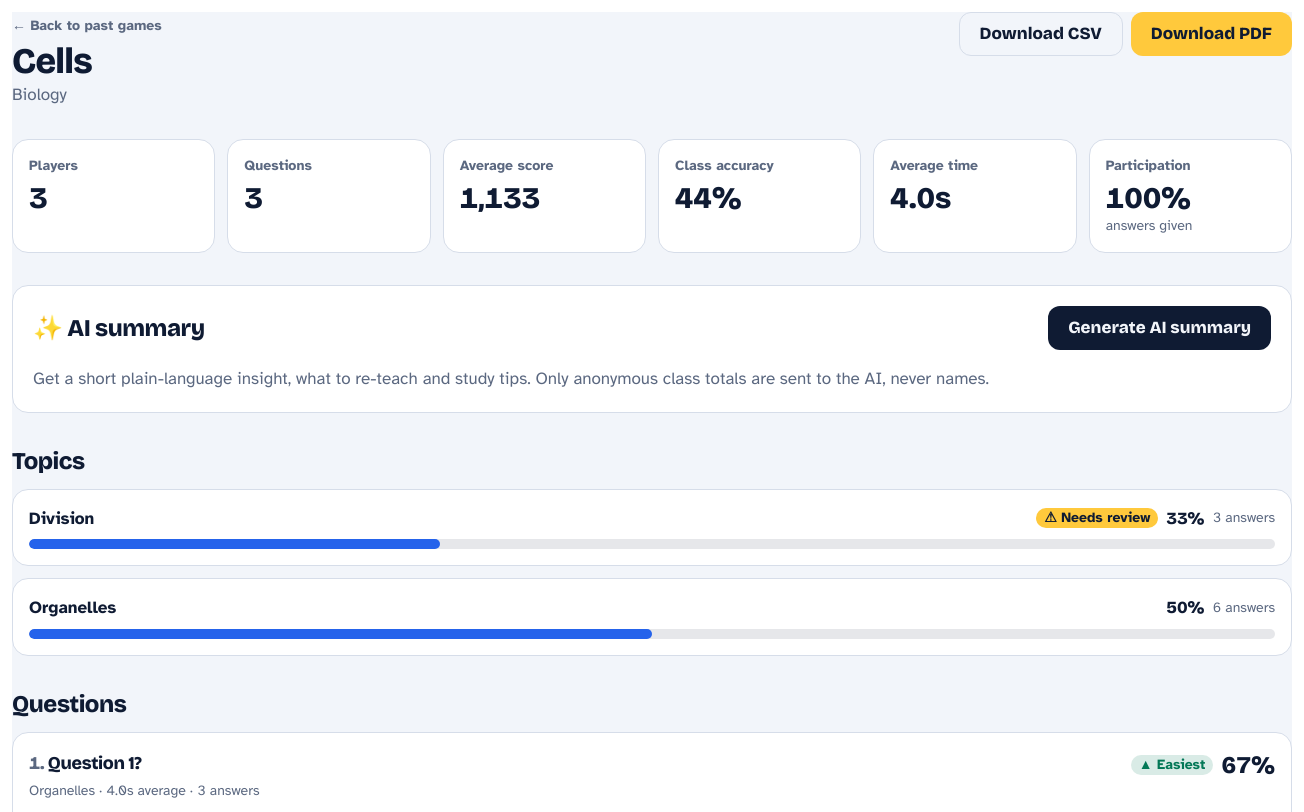
ReportView › generates an AI summary on demand and shows it
What coordinates should you click on to do the following:
click the button "Generate AI summary"
I would click on:
 (1160, 328)
Its box is [1048,306,1271,350].
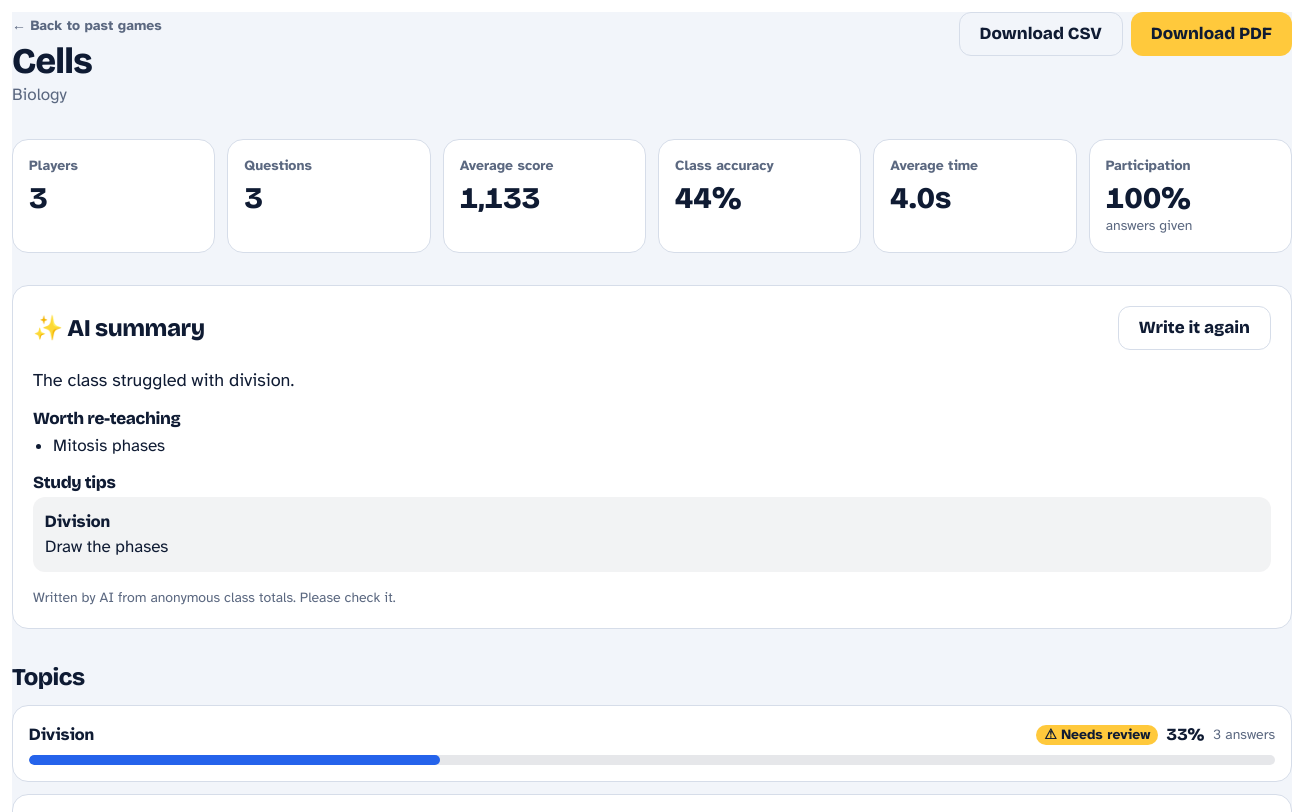
Expected: the text "The class struggled with division." is shown, [33,369,294,391]
Expected: the list item "Mitosis phases" is shown, [53,435,165,456]
Expected: the text "Draw the phases" is shown, [45,536,168,557]
